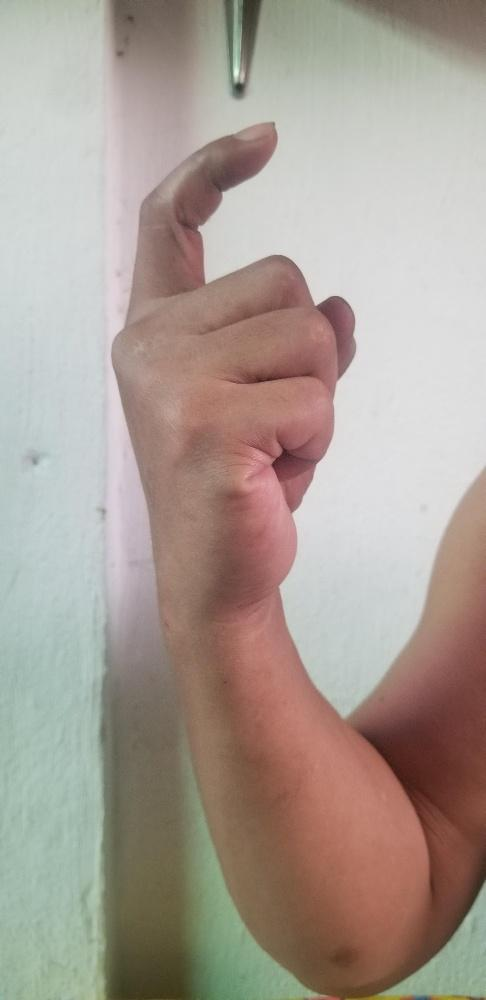x: (103, 119, 358, 605)
